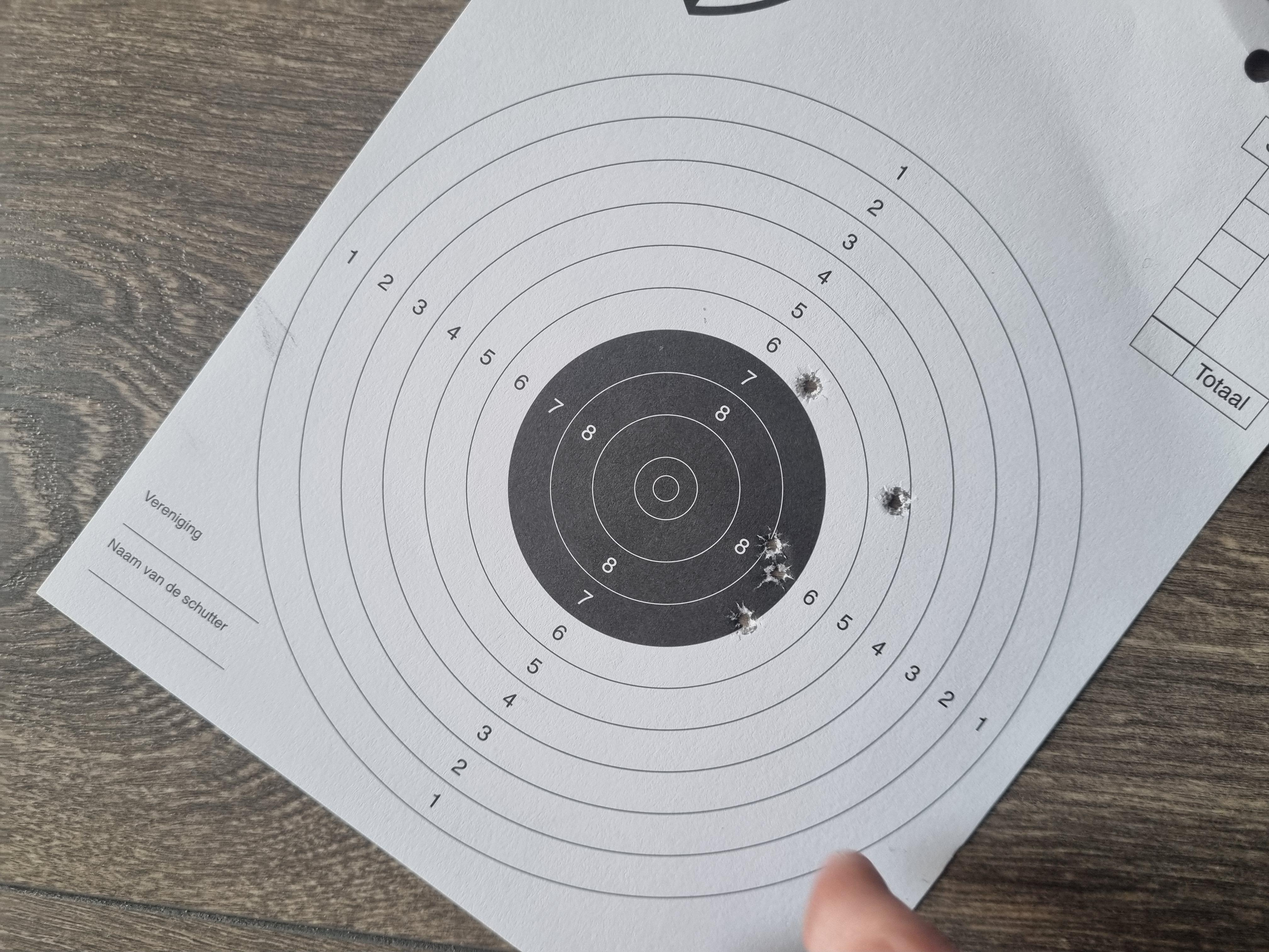hole: (519, 565, 567, 593), (580, 659, 625, 683), (733, 596, 778, 620), (421, 546, 468, 568), (484, 567, 518, 596)
